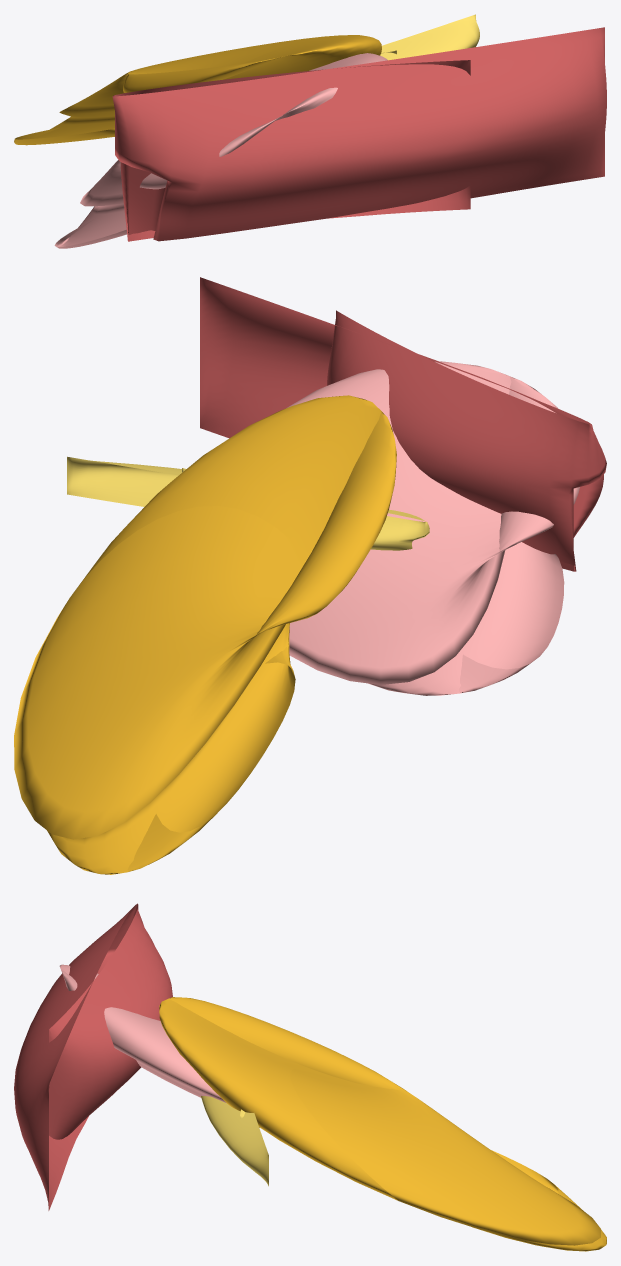
The model's file is digestive.glb.
3 views of the same model, one above another, from view 1: azimuth 30°, elevation 25°; view 2: azimuth 150°, elevation 25°; view 3: azimuth 270°, elevation 25° (orthographic). The views are drawn at different scales.
Parts seen in each view (by area): view 1: Mesh_Feline_Hepar, Mesh_Feline_Intestinum, Mesh_Feline_Gaster, Mesh_Feline_Pancreas; view 2: Mesh_Feline_Intestinum, Mesh_Feline_Hepar, Mesh_Feline_Gaster, Mesh_Feline_Pancreas; view 3: Mesh_Feline_Intestinum, Mesh_Feline_Hepar, Mesh_Feline_Gaster, Mesh_Feline_Pancreas.
Boxes of the visible parts, bbox=[...] form: Mesh_Feline_Hepar: bbox=[112, 27, 606, 241]; Mesh_Feline_Intestinum: bbox=[14, 35, 381, 145]; Mesh_Feline_Gaster: bbox=[54, 53, 387, 248]; Mesh_Feline_Pancreas: bbox=[380, 14, 479, 60]; Mesh_Feline_Intestinum: bbox=[14, 395, 396, 874]; Mesh_Feline_Hepar: bbox=[200, 277, 606, 571]; Mesh_Feline_Gaster: bbox=[286, 361, 579, 695]; Mesh_Feline_Pancreas: bbox=[67, 456, 429, 550]; Mesh_Feline_Intestinum: bbox=[159, 997, 606, 1251]; Mesh_Feline_Hepar: bbox=[14, 903, 172, 1210]; Mesh_Feline_Gaster: bbox=[59, 964, 225, 1102]; Mesh_Feline_Pancreas: bbox=[201, 1096, 268, 1186].
Bounding box in the file's own units: 0.3491 × 0.2194 × 0.4765.
